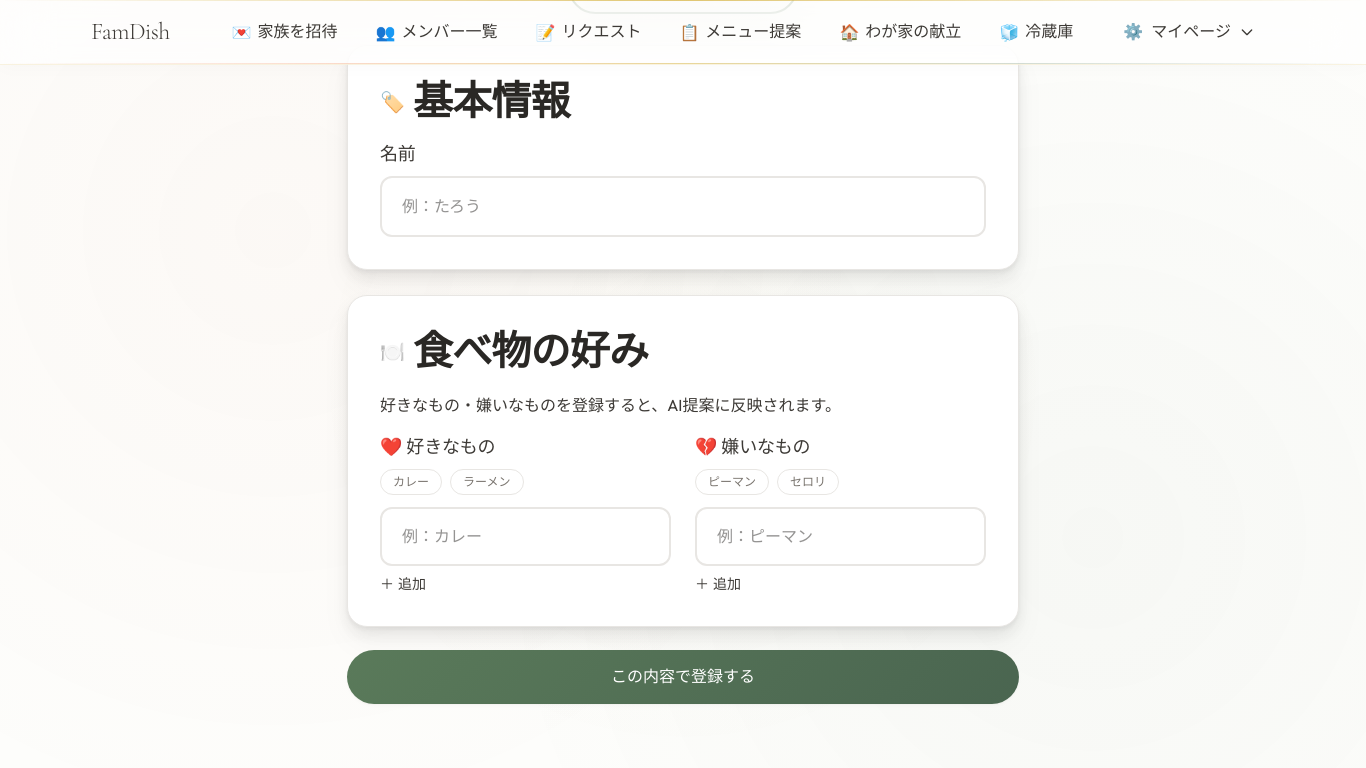
Test: InviteMemberPage › 名前が空のとき「名前を入力してください」を表示する
(page scrolled)
Step 1. Click the button "この内容で登録する" → (683, 677), box 347,650 -> 1019,704
(page scrolled)
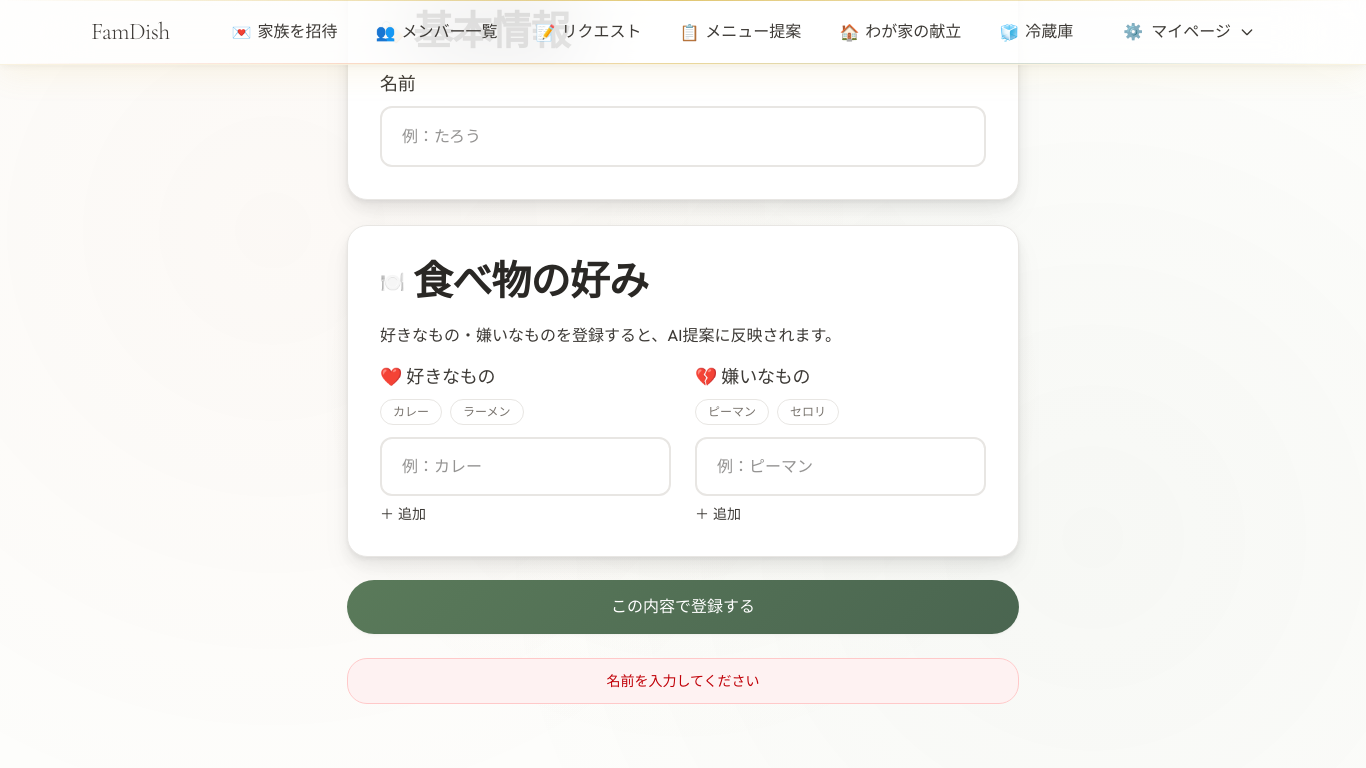
Check: the text "名前を入力してください" is shown, box 347,658 -> 1019,704
